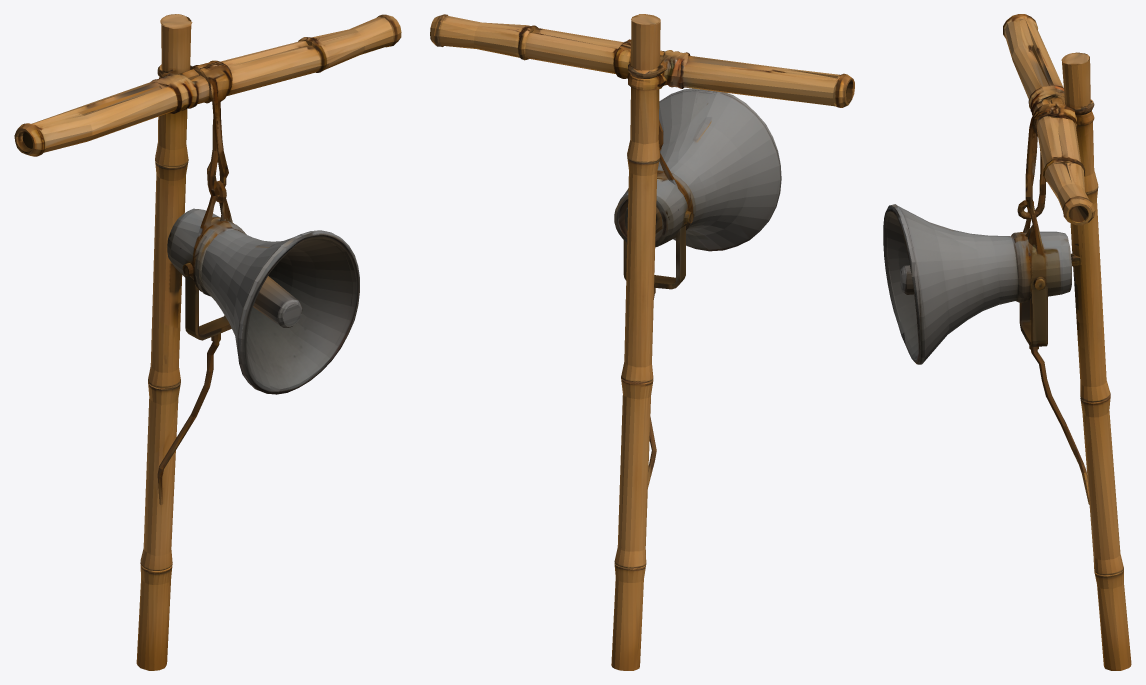
3 views of the same model, side by side, from view 1: azimuth 30°, elevation 25°; view 2: azimuth 150°, elevation 25°; view 3: azimuth 270°, elevation 25° (orthographic). The views are drawn at different scales.
Visible parts, largest first — view 1: texture_pbr_v128; view 2: texture_pbr_v128; view 3: texture_pbr_v128.
Part boxes in pixels (x1=…): texture_pbr_v128: x1=14, y1=14, x2=401, y2=670; texture_pbr_v128: x1=430, y1=14, x2=854, y2=670; texture_pbr_v128: x1=883, y1=14, x2=1131, y2=670.
Bounding box in the file's own units: 0.7122 × 1.11 × 0.4097.
Materials: 1 (1 with a texture image).
